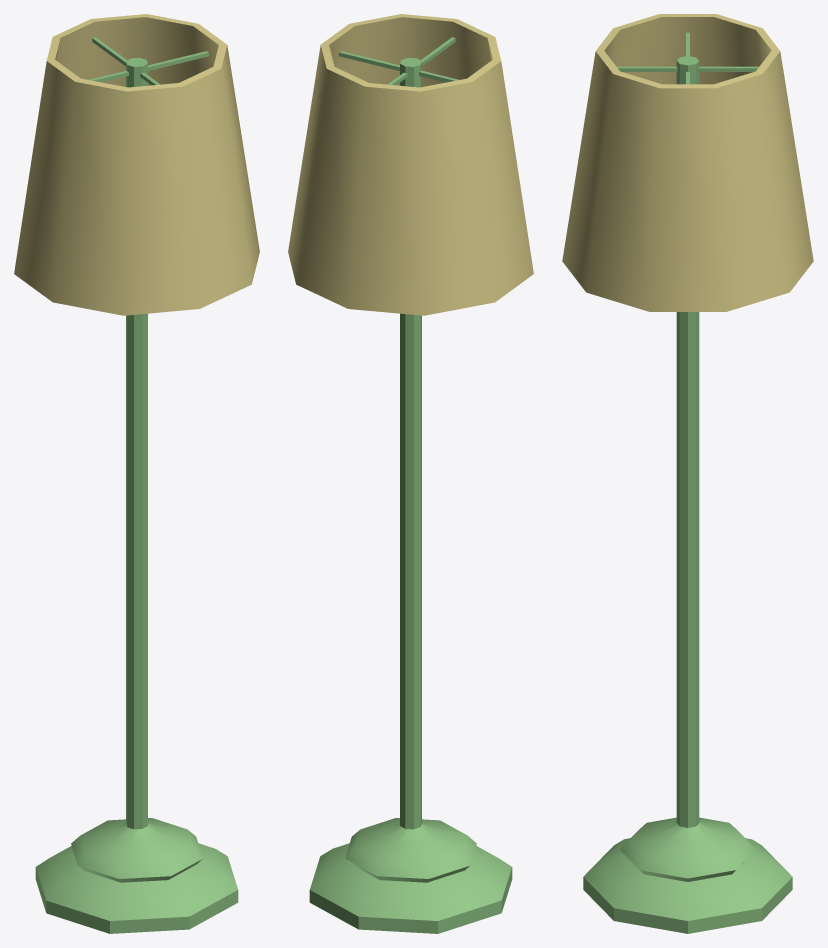
Rendered from Furniture_Lamp_Tall.fbx.
3 renders of one model, left to right at view 1: azimuth 30°, elevation 25°; view 2: azimuth 150°, elevation 25°; view 3: azimuth 270°, elevation 25°, orthographic.
Visible parts, largest first — view 1: Light_Stand; view 2: Light_Stand; view 3: Light_Stand.
Part boxes in pixels (box(x1,y1,x2,y2)): Light_Stand: box(14, 14, 259, 933); Light_Stand: box(288, 14, 533, 933); Light_Stand: box(562, 14, 813, 933).
Size of the model in its own units: 55.8 by 216 by 58.68.
